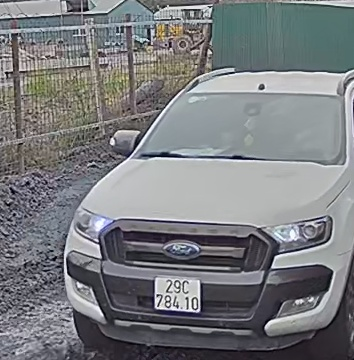vehicle plate: (153, 273, 200, 315)
